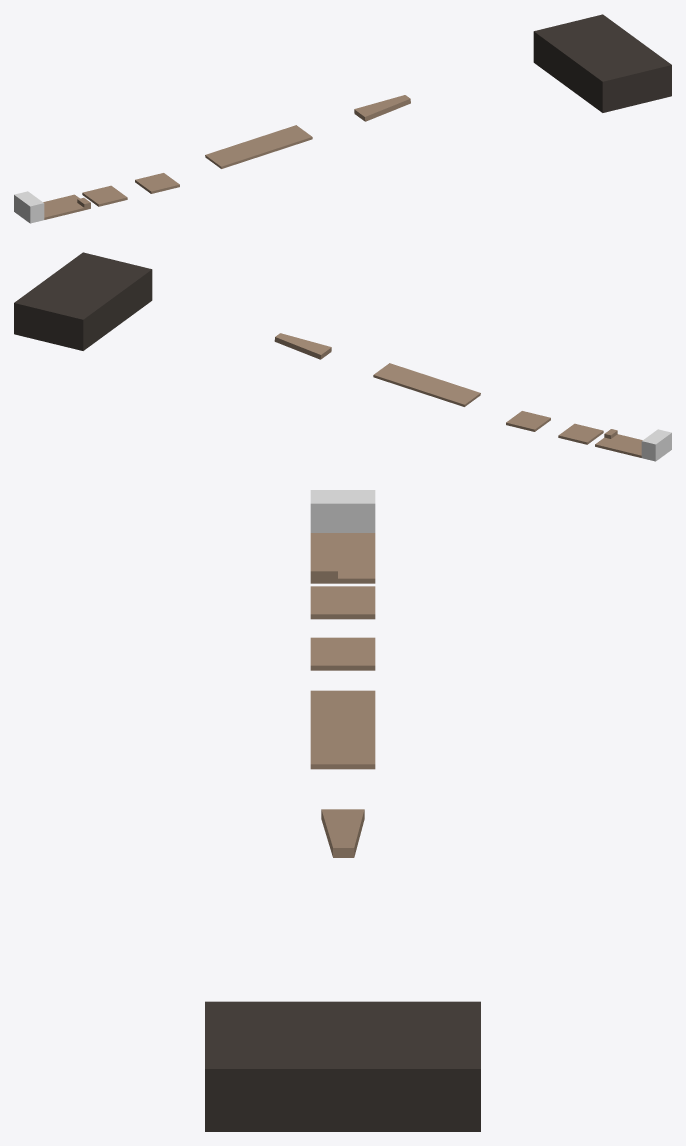
The model's file is stage1_ground.fbx.
3 views of the same model, one above another, from view 1: azimuth 30°, elevation 25°; view 2: azimuth 150°, elevation 25°; view 3: azimuth 270°, elevation 25° (orthographic). The views are drawn at different scales.
Visible parts, largest first — view 1: 0stair4.002, 4tutorialClear, 0start_ground, 2ground.001, 1ground, 2ground, 3wireaction; view 2: 0stair4.002, 4tutorialClear, 0start_ground, 2ground.001, 1ground, 2ground, 3wireaction; view 3: 0stair4.002, 4tutorialClear, 1ground, 0start_ground, 2ground, 3wireaction, 2ground.001.
Part boxes in pixels (<box>): 0stair4.002: <box>533,14,671,112</box>; 4tutorialClear: <box>205,125,312,168</box>; 0start_ground: <box>14,191,44,223</box>; 2ground.001: <box>354,95,410,121</box>; 1ground: <box>43,194,90,219</box>; 2ground: <box>82,185,127,206</box>; 3wireaction: <box>135,173,179,193</box>; 0stair4.002: <box>14,252,152,350</box>; 4tutorialClear: <box>373,363,480,406</box>; 0start_ground: <box>641,429,671,461</box>; 2ground.001: <box>274,333,331,359</box>; 1ground: <box>595,434,642,457</box>; 2ground: <box>558,423,603,444</box>; 3wireaction: <box>506,411,550,431</box>; 0stair4.002: <box>205,1001,480,1131</box>; 4tutorialClear: <box>310,690,375,769</box>; 1ground: <box>310,533,375,583</box>; 0start_ground: <box>310,490,375,532</box>; 2ground: <box>310,586,375,619</box>; 3wireaction: <box>310,637,375,670</box>; 2ground.001: <box>321,809,364,857</box>.
Size of the model in its own units: 2635 by 128 by 512.
